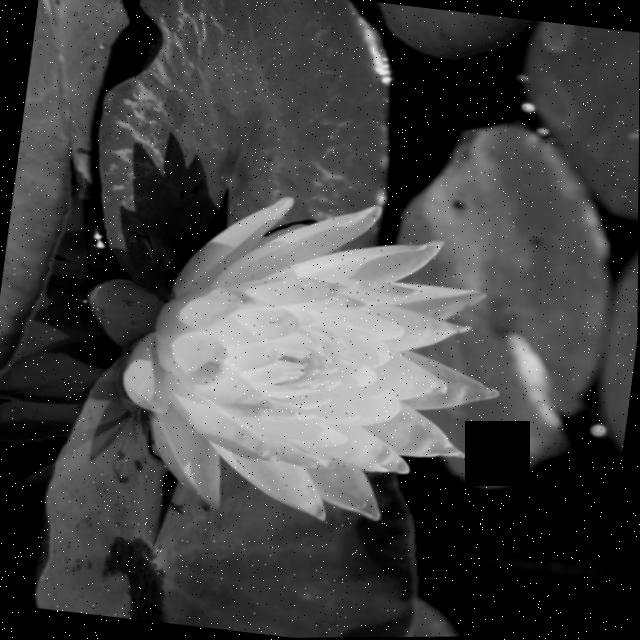water-lily: (42, 143, 550, 578)
